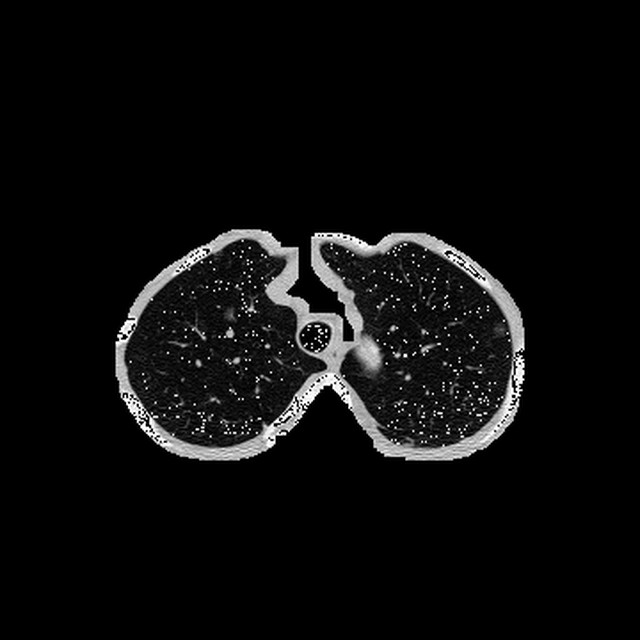PN: (492, 322, 507, 336)
